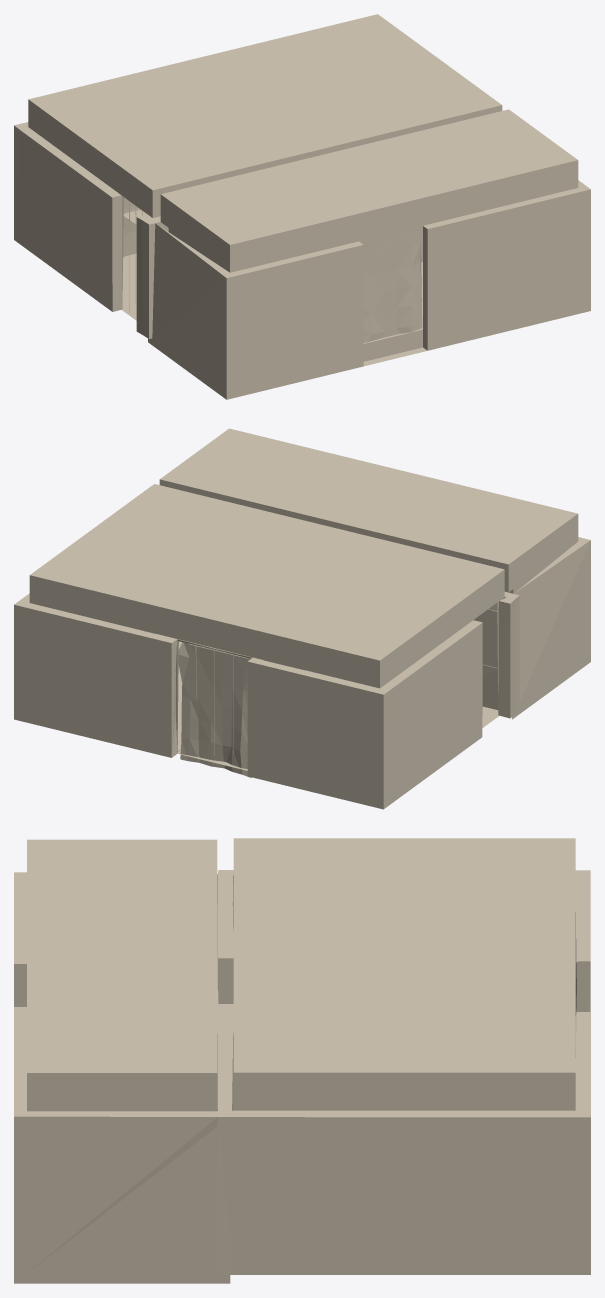
Rendered from city-preview.glb.
3 renders of one model, top to bottom at view 1: azimuth 30°, elevation 25°; view 2: azimuth 150°, elevation 25°; view 3: azimuth 270°, elevation 25°, orthographic. The views are drawn at different scales.
Bounding box in the file's own units: 8.29 × 3.24 × 8.14.
